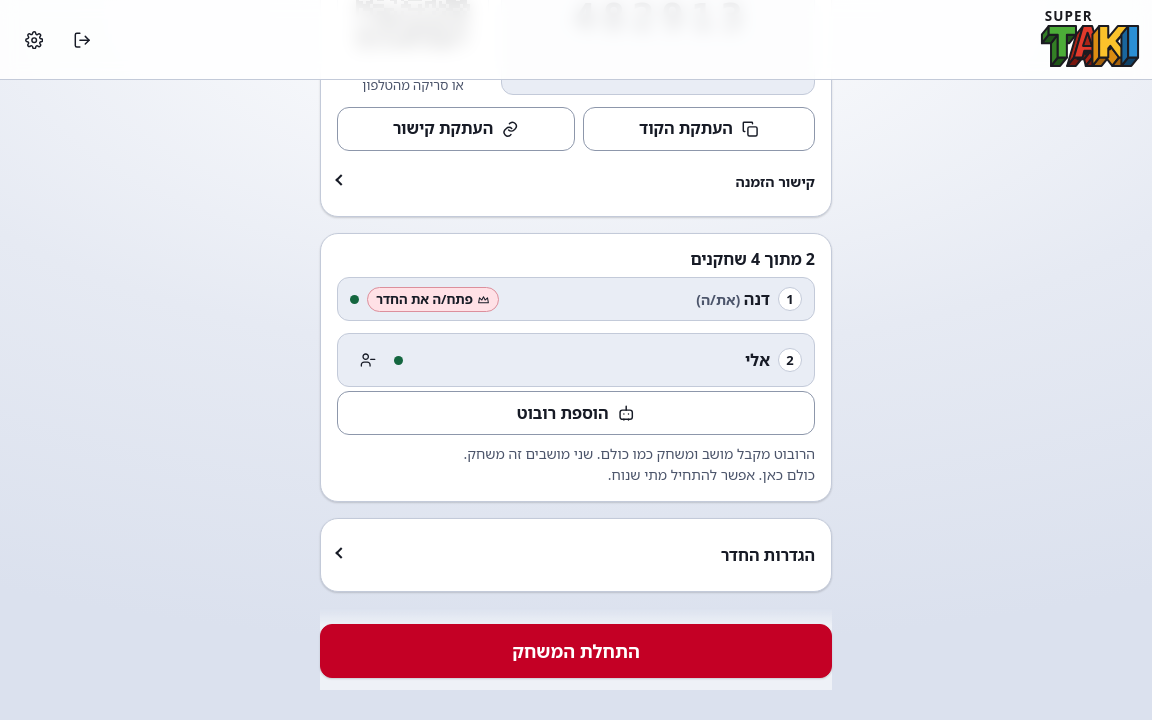
Test: lobby › can back out of removing a player
The image size is (1152, 720).
(page scrolled)
Click the button named "הסרת אלי": (368, 360) [350,342,386,378]
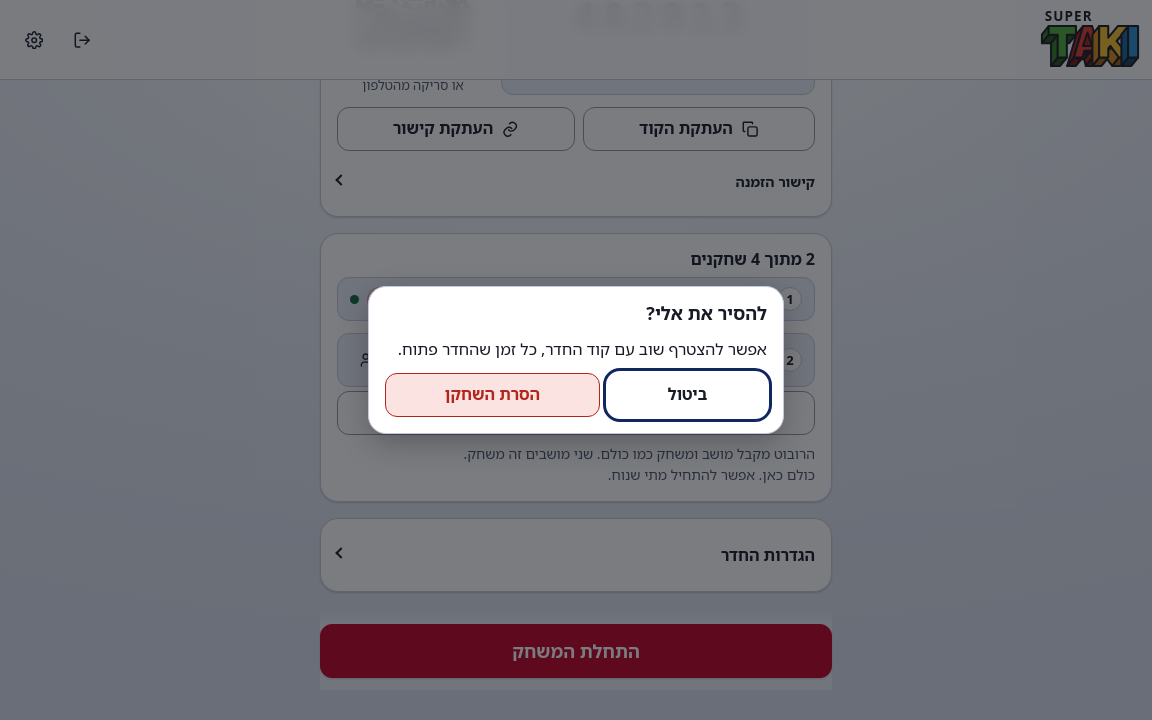
Click the button "ביטול": (687, 395) [608,373,767,417]
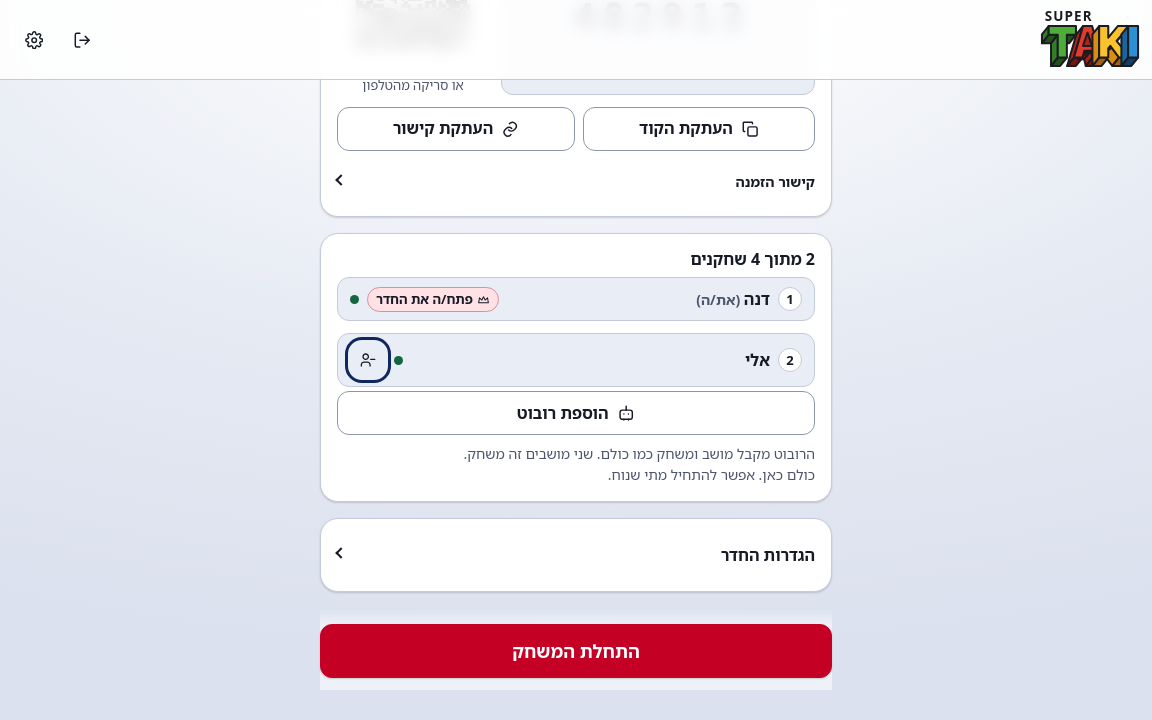
Expected: the dialog is gone
